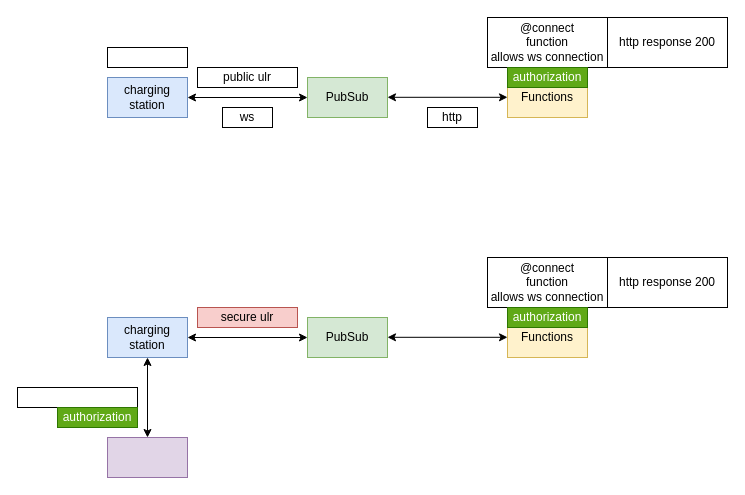
Some shapes in this 745 by 495 pixel diagram are drawn without their labels. Here are the shapes that lost their labels. From the top down, the centre of each, then its label:
[147,57]: anonym
[77,397]: http fecht token
[147,457]: server
